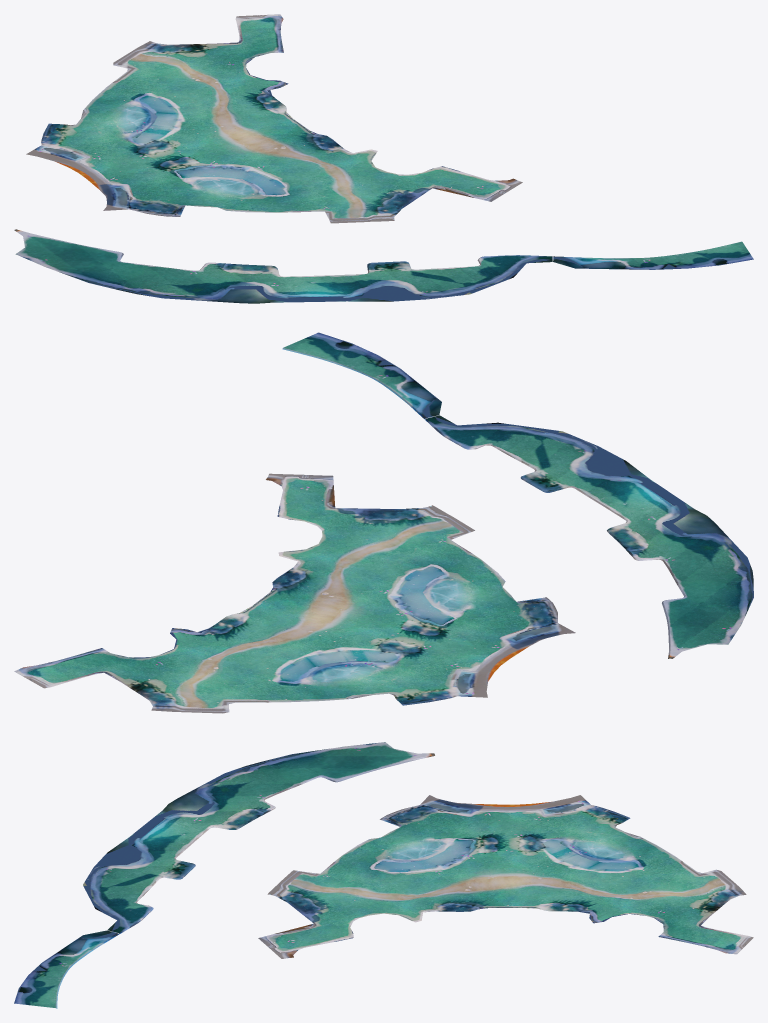
The model's file is pref_sm_beach_tech_hunt_bk_winter_Terrains_Part_02_lv1.fbx.
3 renders of one model, top to bottom at view 1: azimuth 30°, elevation 25°; view 2: azimuth 150°, elevation 25°; view 3: azimuth 270°, elevation 25°, orthographic. The views are drawn at different scales.
Parts seen in each view (by area): view 1: sm_beach_tech_hunt_bk_winter_Terrains_Part_02a_lv1, sm_beach_tech_hunt_bk_winter_Terrains_Part_02b_lv1; view 2: sm_beach_tech_hunt_bk_winter_Terrains_Part_02a_lv1, sm_beach_tech_hunt_bk_winter_Terrains_Part_02b_lv1; view 3: sm_beach_tech_hunt_bk_winter_Terrains_Part_02a_lv1, sm_beach_tech_hunt_bk_winter_Terrains_Part_02b_lv1.
Boxes of the visible parts, left/top/right/bottom form: sm_beach_tech_hunt_bk_winter_Terrains_Part_02a_lv1: left=26, top=14, right=522, bottom=223; sm_beach_tech_hunt_bk_winter_Terrains_Part_02b_lv1: left=14, top=229, right=753, bottom=303; sm_beach_tech_hunt_bk_winter_Terrains_Part_02a_lv1: left=14, top=473, right=575, bottom=713; sm_beach_tech_hunt_bk_winter_Terrains_Part_02b_lv1: left=282, top=332, right=753, bottom=658; sm_beach_tech_hunt_bk_winter_Terrains_Part_02a_lv1: left=258, top=795, right=753, bottom=958; sm_beach_tech_hunt_bk_winter_Terrains_Part_02b_lv1: left=14, top=742, right=434, bottom=1008.
Size of the model in its own units: 62.96 by 0.0904 by 73.99.
